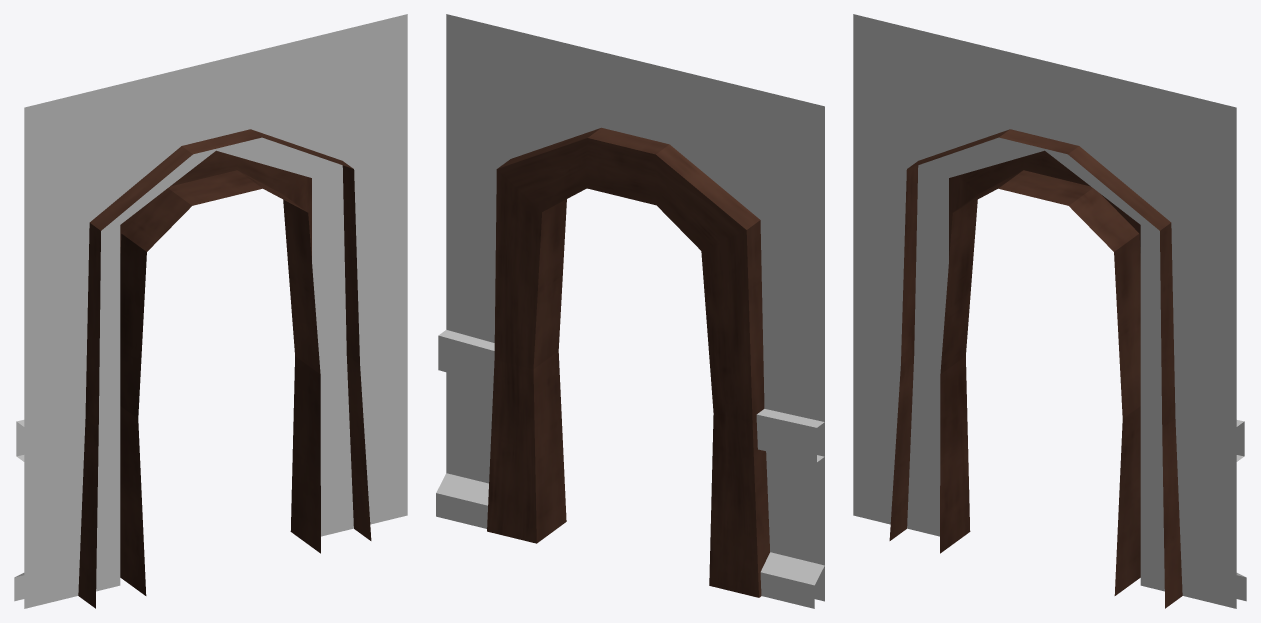
Rendered from Doorway_Mesh.fbx.
3 views of the same model, side by side, from view 1: azimuth 30°, elevation 25°; view 2: azimuth 150°, elevation 25°; view 3: azimuth 330°, elevation 25° (orthographic).
Visible parts, largest first — view 1: Wall.002; view 2: Wall.002; view 3: Wall.002.
Part boxes in pixels (left/top/right/bottom): Wall.002: left=14, top=14, right=407, bottom=608; Wall.002: left=436, top=14, right=824, bottom=608; Wall.002: left=853, top=14, right=1246, bottom=608.
Bounding box in the file's own units: 200 × 250 × 28.46.
